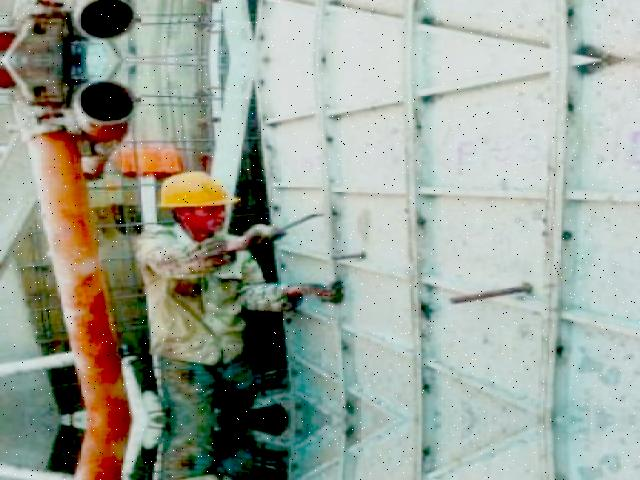Helmet: (150, 164, 244, 220)
